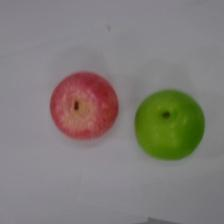green: (134, 87, 205, 161)
red: (49, 70, 120, 141)
